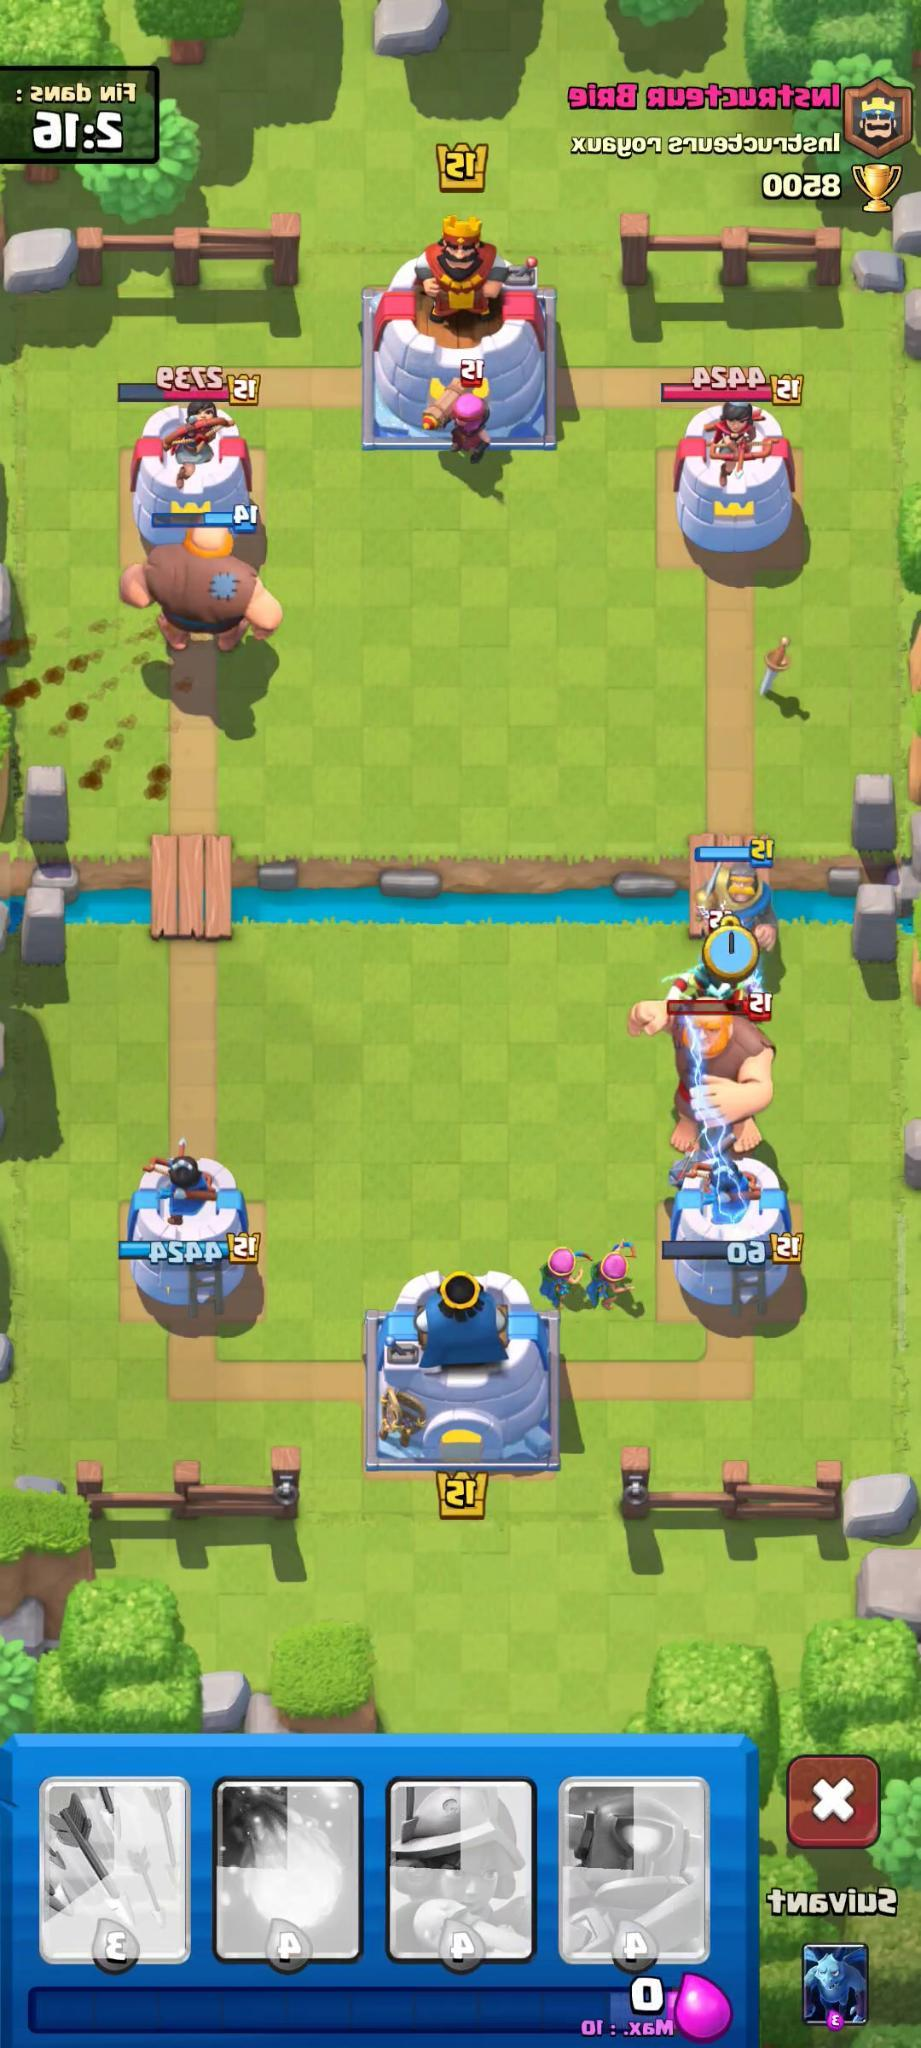enemy_electro_wizard: (654, 951, 766, 999)
enemy_firecracker: (418, 364, 503, 474)
enemy_giant: (646, 995, 780, 1159)
player_archers: (586, 1232, 646, 1311), (533, 1236, 591, 1315)
player_giant: (116, 511, 289, 665)
player_knight: (679, 835, 782, 948)
